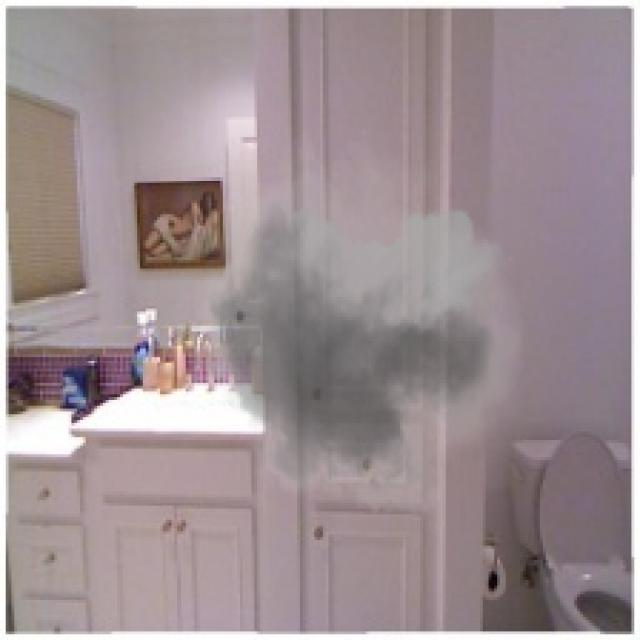Smoke: (183, 126, 526, 534)
